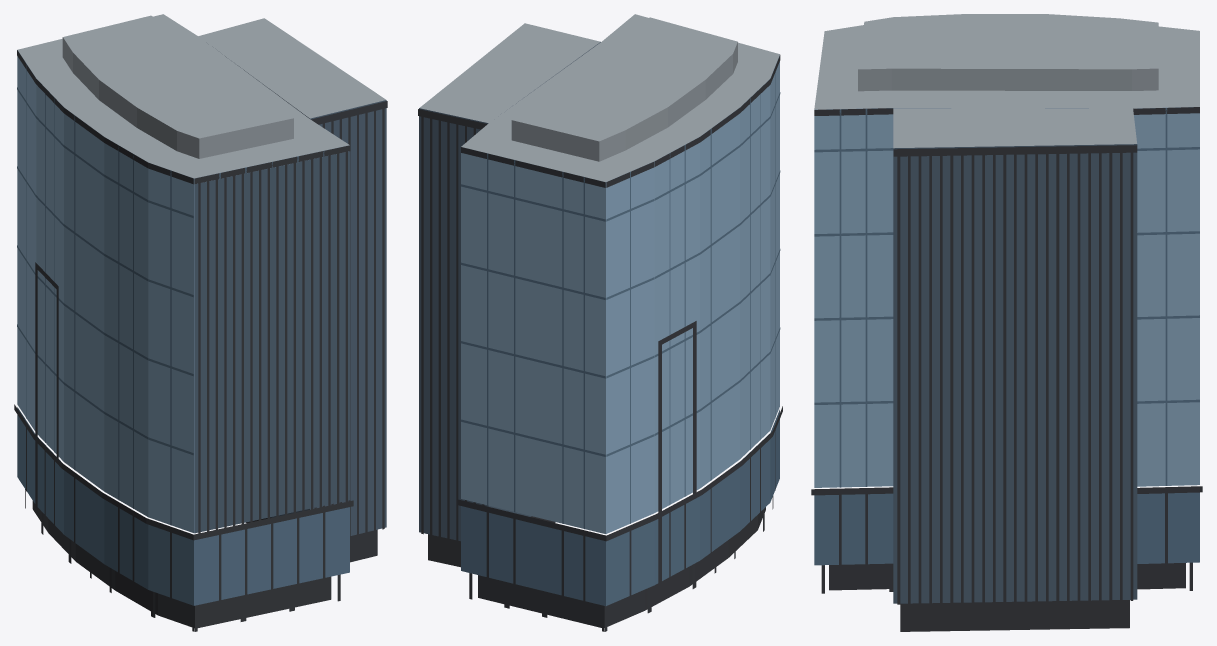
Rendered from clt-pearl-medical-school.glb.
3 views of the same model, side by side, from view 1: azimuth 30°, elevation 25°; view 2: azimuth 150°, elevation 25°; view 3: azimuth 270°, elevation 25° (orthographic). The views are drawn at different scales.
Parts seen in each view (by area): view 1: Levine Center, Wake Forest School of Medicine Charlotte; view 2: Levine Center, Wake Forest School of Medicine Charlotte; view 3: Levine Center, Wake Forest School of Medicine Charlotte.
Part boxes in pixels (x1,y1,x2,y2): Levine Center, Wake Forest School of Medicine Charlotte: [14, 14, 387, 631]; Levine Center, Wake Forest School of Medicine Charlotte: [418, 14, 782, 631]; Levine Center, Wake Forest School of Medicine Charlotte: [811, 14, 1202, 631].
Size of the model in its own units: 45.36 by 81.5 by 56.82.
